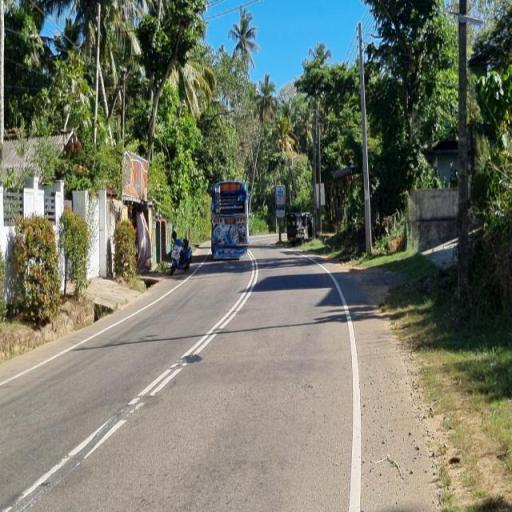double_white_line: (129, 250, 261, 416)
